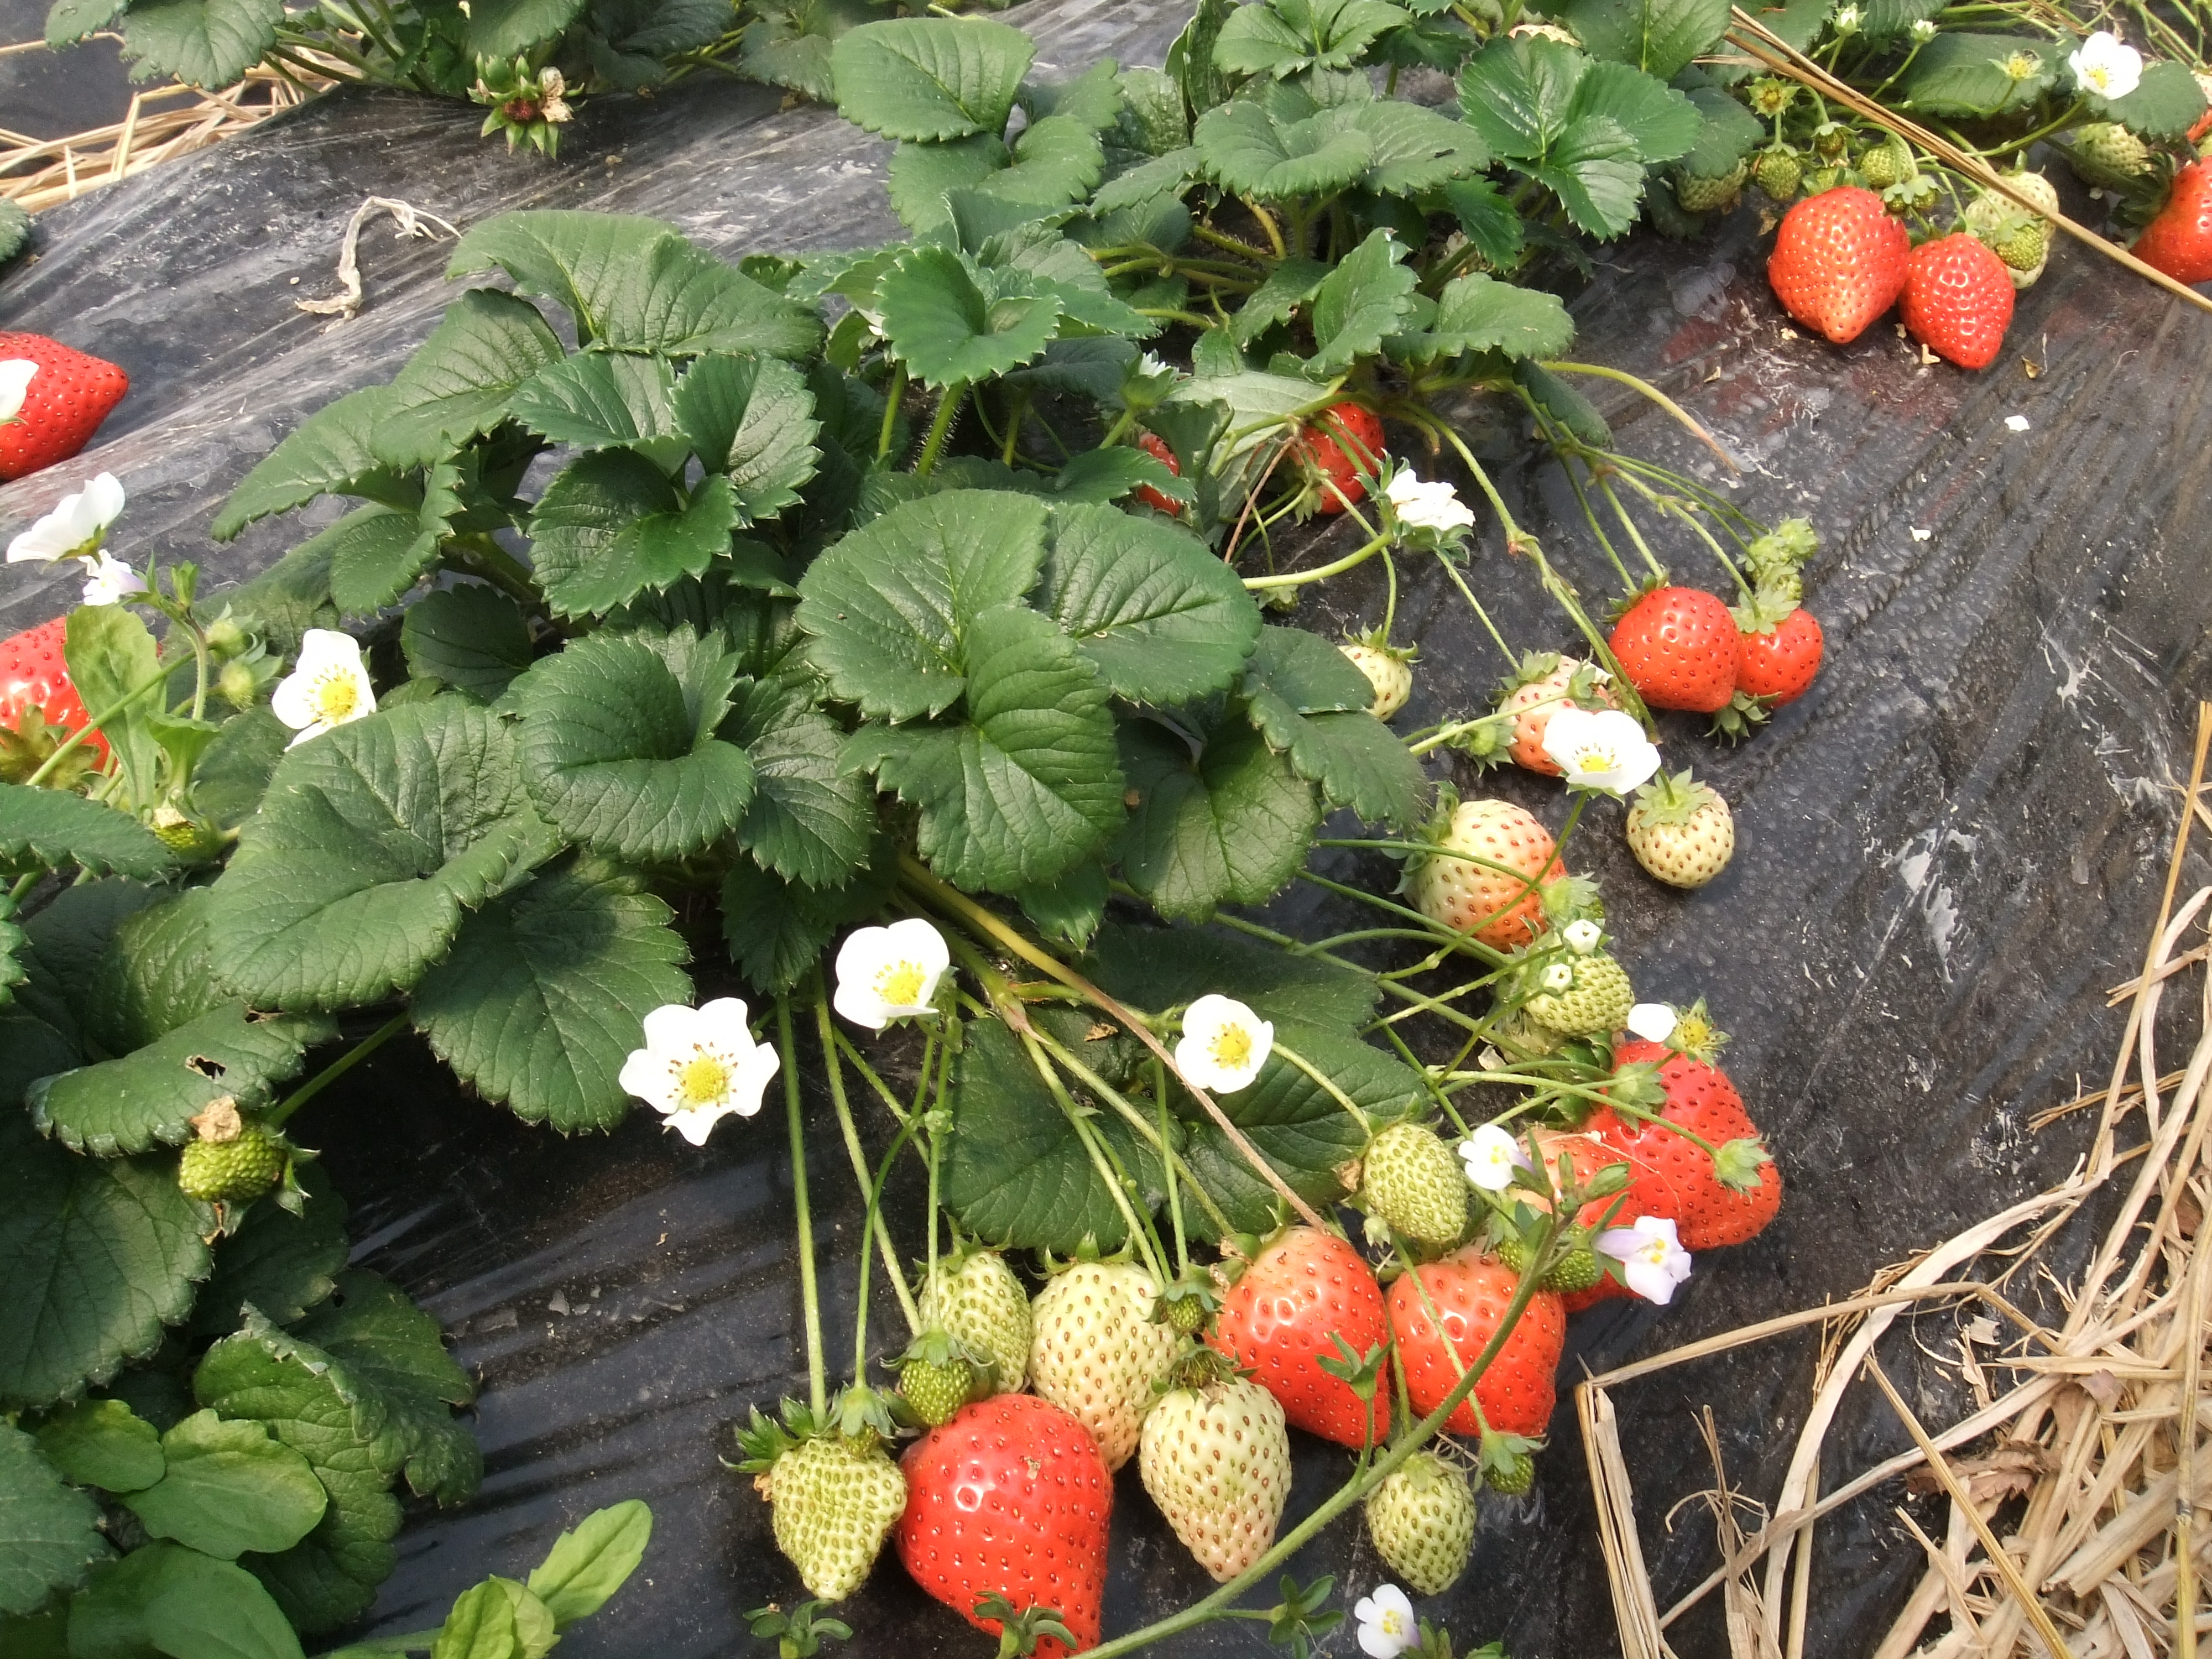StrawberryCircular: (1601, 568, 1750, 714), (1719, 591, 1827, 714)
StrawberryCone: (894, 1385, 1120, 1649), (1172, 1215, 1393, 1457), (1752, 173, 1916, 357), (1902, 207, 2029, 368)
StrawberryIrremovable: (1123, 1377, 1303, 1584), (1017, 1258, 1186, 1466), (1416, 782, 1581, 955), (758, 1424, 909, 1601), (899, 1244, 1031, 1399), (1493, 662, 1634, 800), (1364, 1452, 1479, 1598), (1355, 1115, 1472, 1243), (165, 1107, 296, 1216), (1510, 932, 1642, 1040), (1629, 777, 1742, 894), (1963, 173, 2060, 301), (1318, 634, 1421, 728), (2066, 108, 2160, 193), (1674, 129, 1756, 223), (894, 1344, 975, 1427)
StrawberryOther: (1484, 1023, 1778, 1324), (1385, 1244, 1571, 1460), (5, 315, 132, 481), (1263, 380, 1404, 523), (5, 606, 117, 781), (1109, 399, 1214, 521)
StrawberryRemovable: (1484, 1035, 1775, 1319), (902, 1384, 1116, 1645), (1181, 1211, 1397, 1450), (1379, 1243, 1568, 1457), (1764, 178, 1919, 352), (3, 592, 124, 786), (3, 314, 127, 479), (1609, 579, 1745, 716), (1902, 216, 2024, 366), (1270, 385, 1399, 521), (1723, 592, 1827, 711), (1115, 404, 1205, 521)
